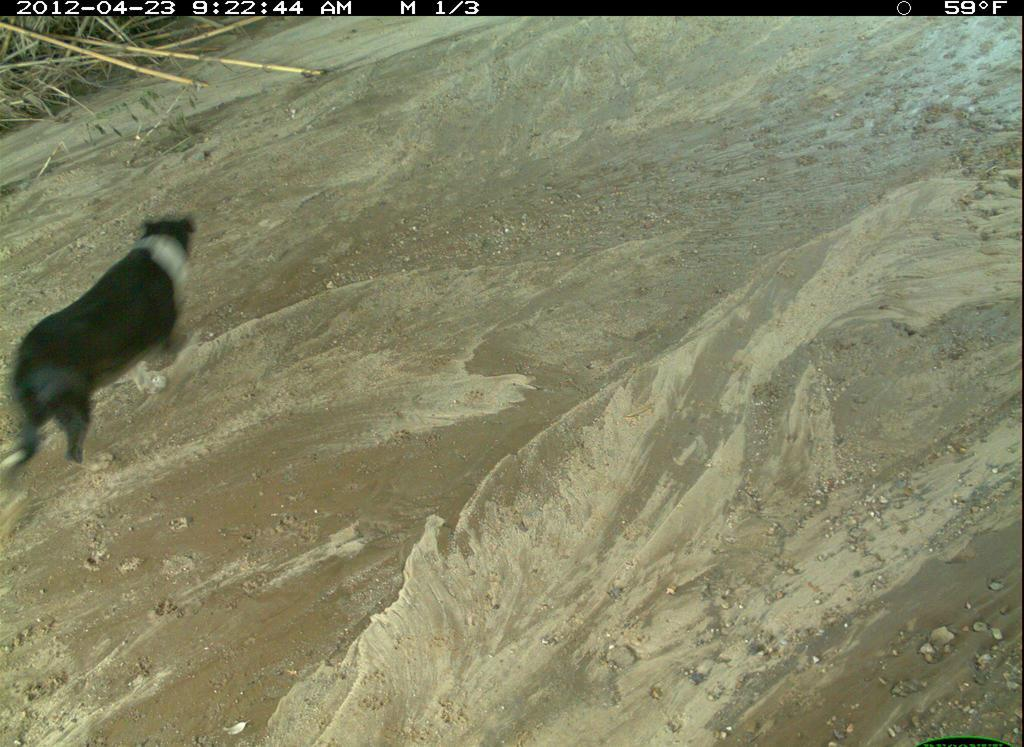dog: (1, 409, 412, 747)
